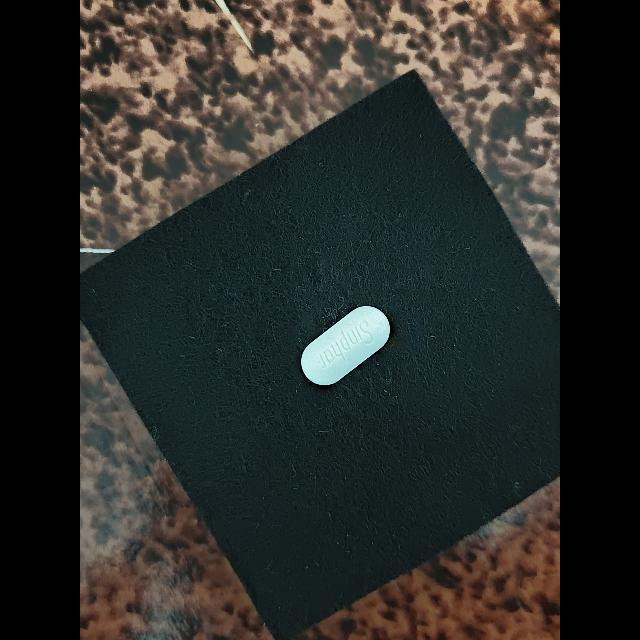Intact Pill: (301, 306, 390, 386)
